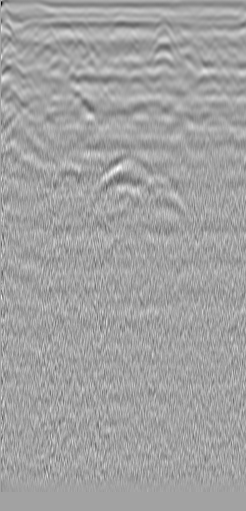상수: (22, 15, 42, 35)
우수: (150, 13, 170, 33)
